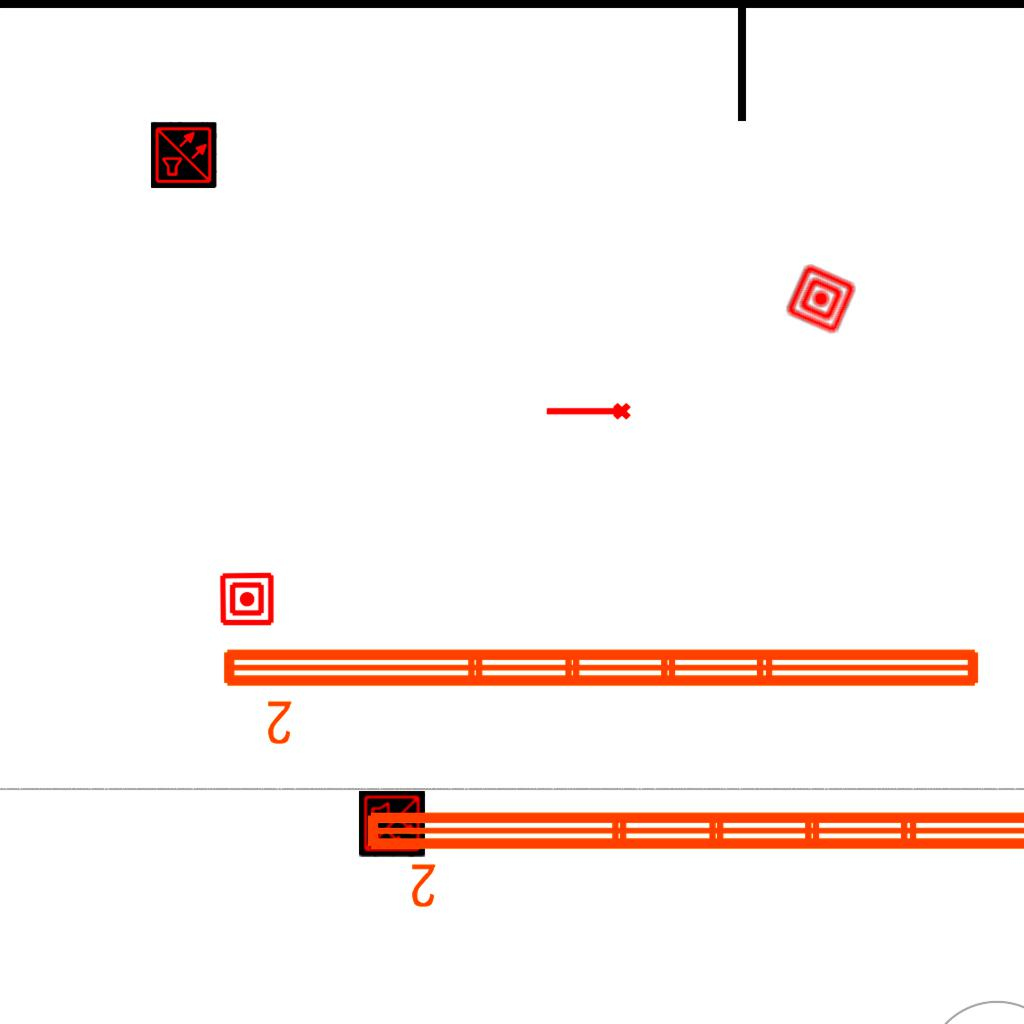ASR_Ansaugoeffnung: (544, 401, 632, 424)
Ambulanz_Pendelleuchte_LED: (215, 637, 989, 749), (359, 800, 1024, 912)
NAM-Nichtautomatischer_Melder: (784, 262, 858, 336), (219, 571, 275, 627)
OKW_Multisensormelder_(Kombination_optischer_Rauch-Kahlenmonoxid_Waerme-Melder): (151, 122, 217, 188), (359, 791, 425, 857)
